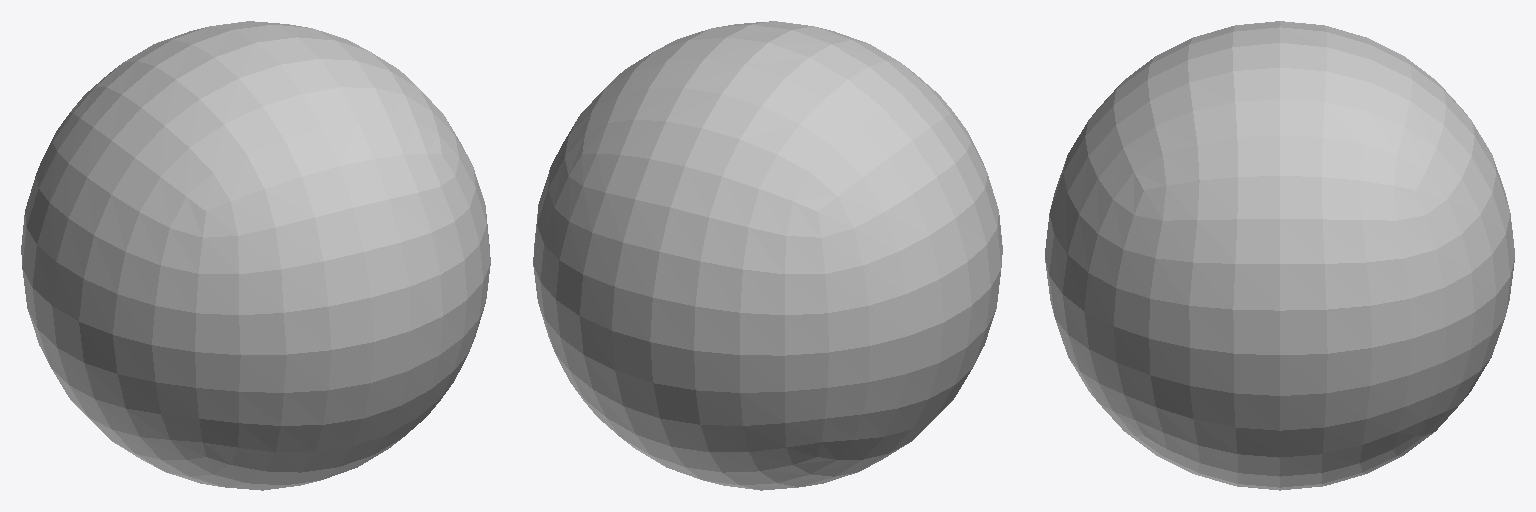
File: Unwrapped.obj
3 views of the same model, side by side, from view 1: azimuth 30°, elevation 25°; view 2: azimuth 150°, elevation 25°; view 3: azimuth 270°, elevation 25° (orthographic).
Parts seen in each view (by area): view 1: MeshToFile; view 2: MeshToFile; view 3: MeshToFile.
Boxes of the visible parts, x1=… form: MeshToFile: x1=21, y1=21, x2=490, y2=490; MeshToFile: x1=533, y1=21, x2=1002, y2=490; MeshToFile: x1=1045, y1=21, x2=1514, y2=490.
Size of the model in its own units: 1 by 1 by 1.